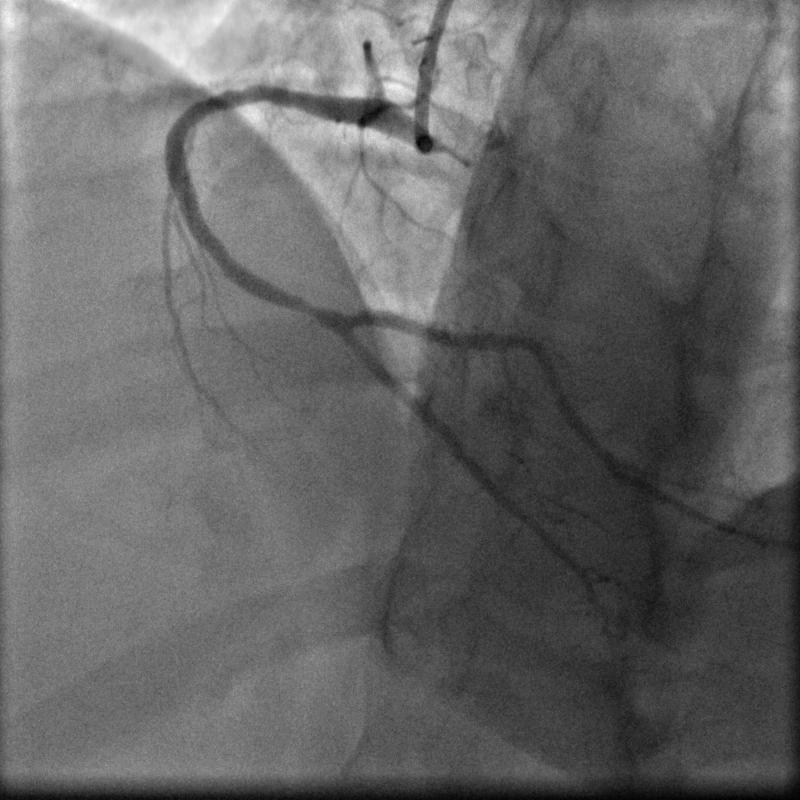Stenosis: (291, 286, 328, 336)
